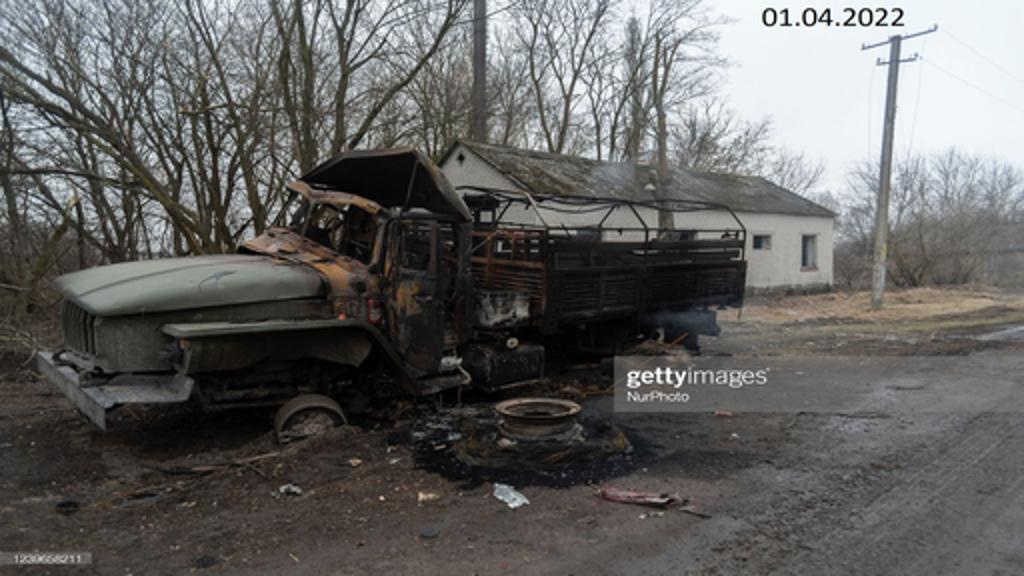TRUCK: (30, 146, 752, 476)
